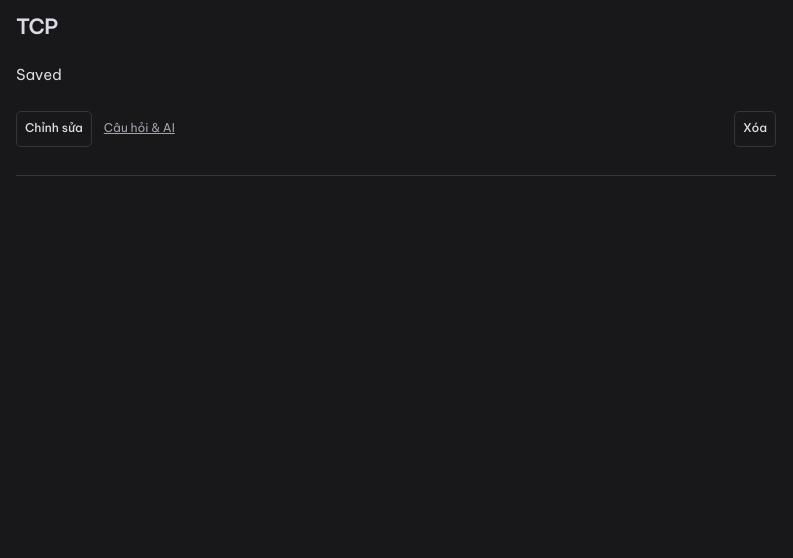
Test: previews the unsaved topic note draft without saving or leaving edit mode
Click the button with aria-label "Chỉnh sửa TCP": {"x": 54, "y": 129} [16, 111, 92, 147]
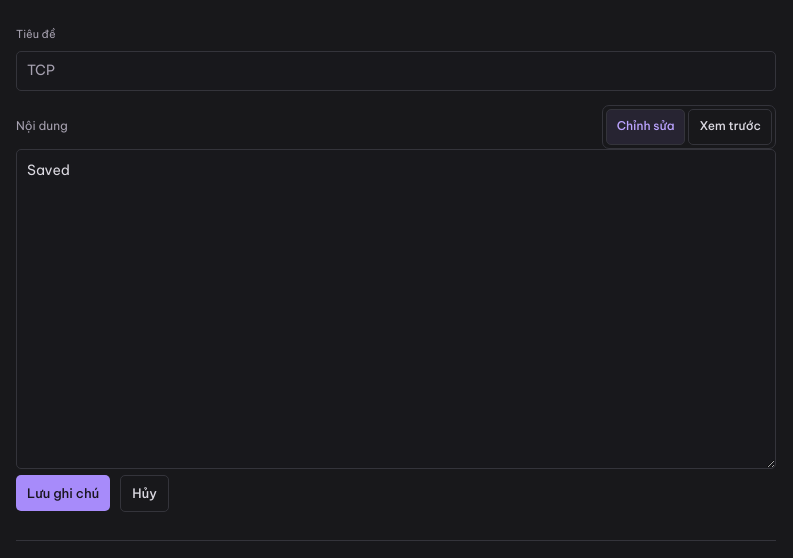
Replace the text in the text box labelled "Nội dung" with "# Draft": {"x": 396, "y": 309} [16, 149, 776, 469]
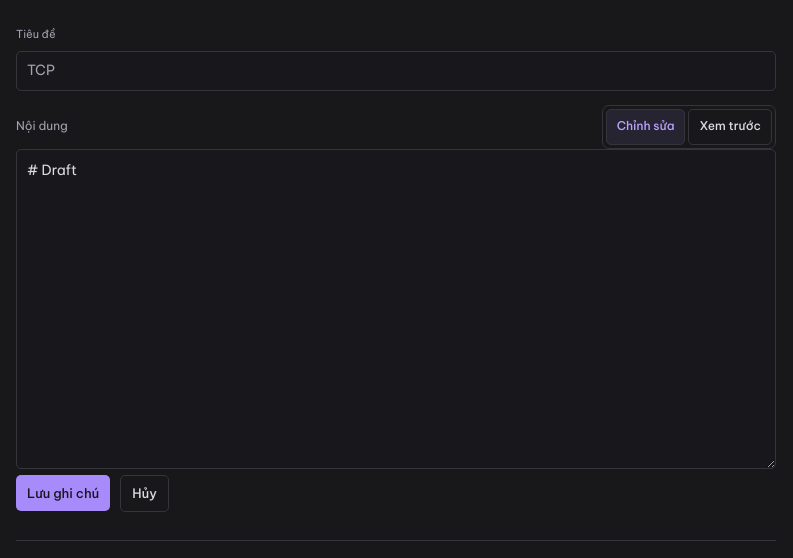
Click the button "Xem trước": {"x": 730, "y": 127} [688, 109, 772, 145]
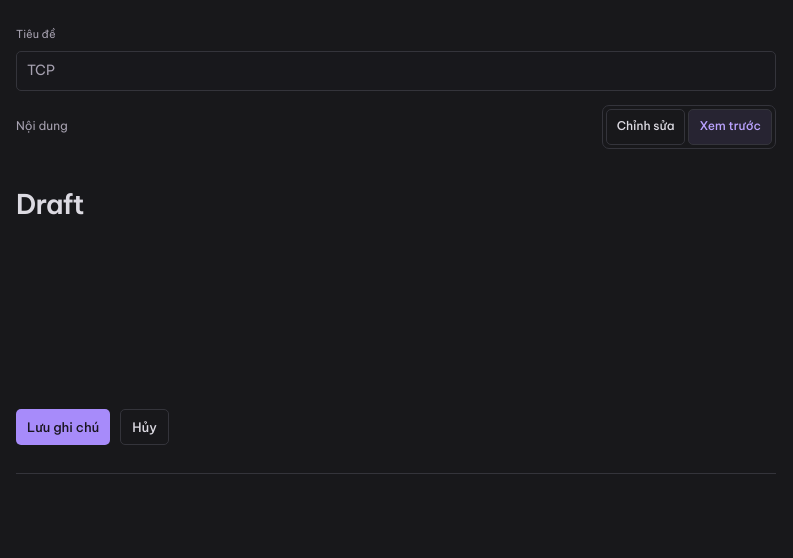
Now the heading "Draft" is shown, box [16, 187, 84, 221]
Click the button "Chỉnh sửa": {"x": 646, "y": 127} [606, 109, 686, 145]
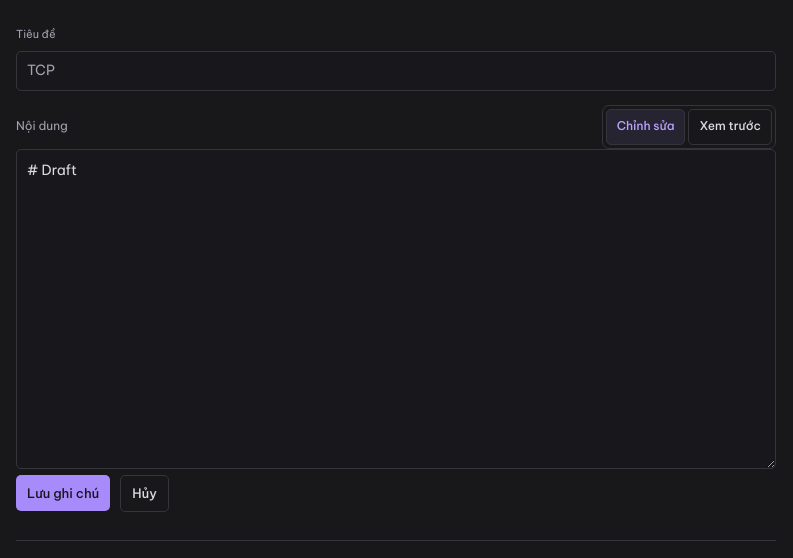
Now the text box labelled "Nội dung" holds "# Draft", box [16, 149, 776, 469]
